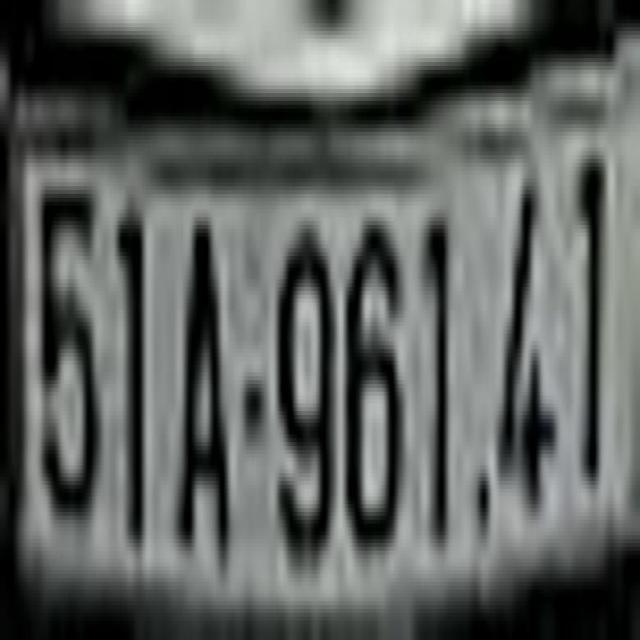1: (114, 167, 148, 536), (418, 206, 453, 558), (576, 147, 606, 477)
4: (498, 190, 556, 524)
5: (40, 167, 96, 520)
6: (344, 202, 398, 550)
9: (281, 225, 329, 551)
A: (184, 198, 230, 554)
